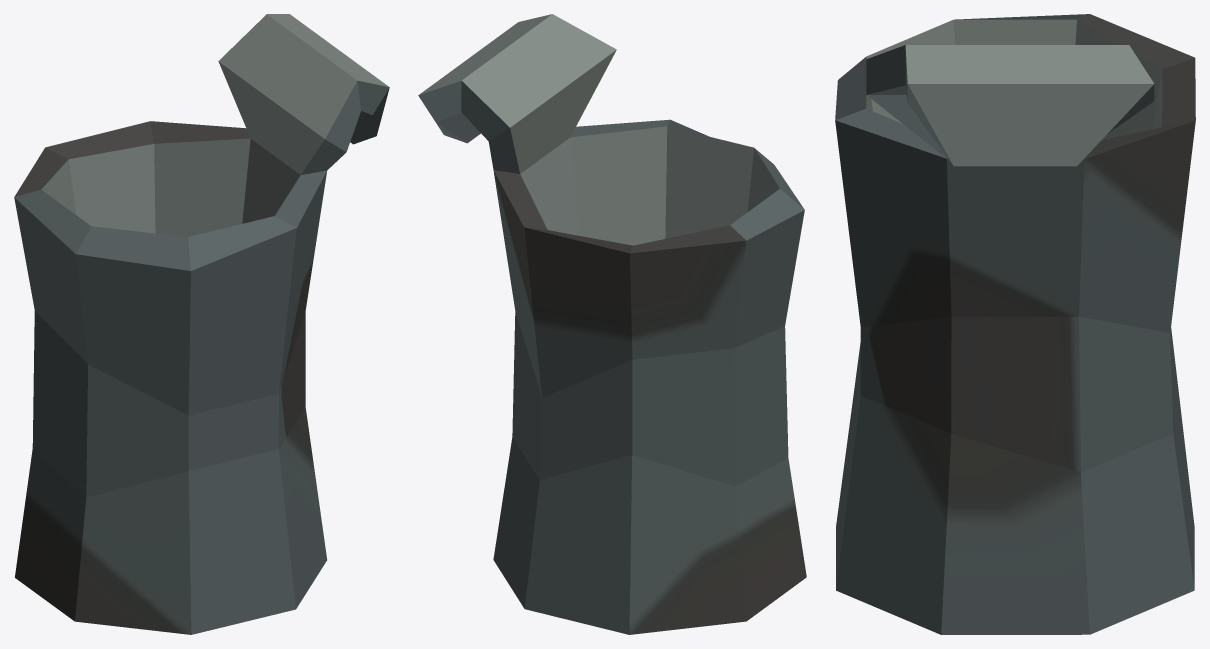
The model's file is SM_Metal_Can.fbx.
3 views of the same model, side by side, from view 1: azimuth 30°, elevation 25°; view 2: azimuth 150°, elevation 25°; view 3: azimuth 270°, elevation 25° (orthographic). The views are drawn at different scales.
Parts seen in each view (by area): view 1: SM_Metal_Can; view 2: SM_Metal_Can; view 3: SM_Metal_Can.
Boxes of the visible parts, x1,y1,x2,y2 form: SM_Metal_Can: (14,14,389,634); SM_Metal_Can: (418,14,806,634); SM_Metal_Can: (835,14,1195,634).
Bounding box in the file's own units: 18.31 × 27.7 × 15.1.
